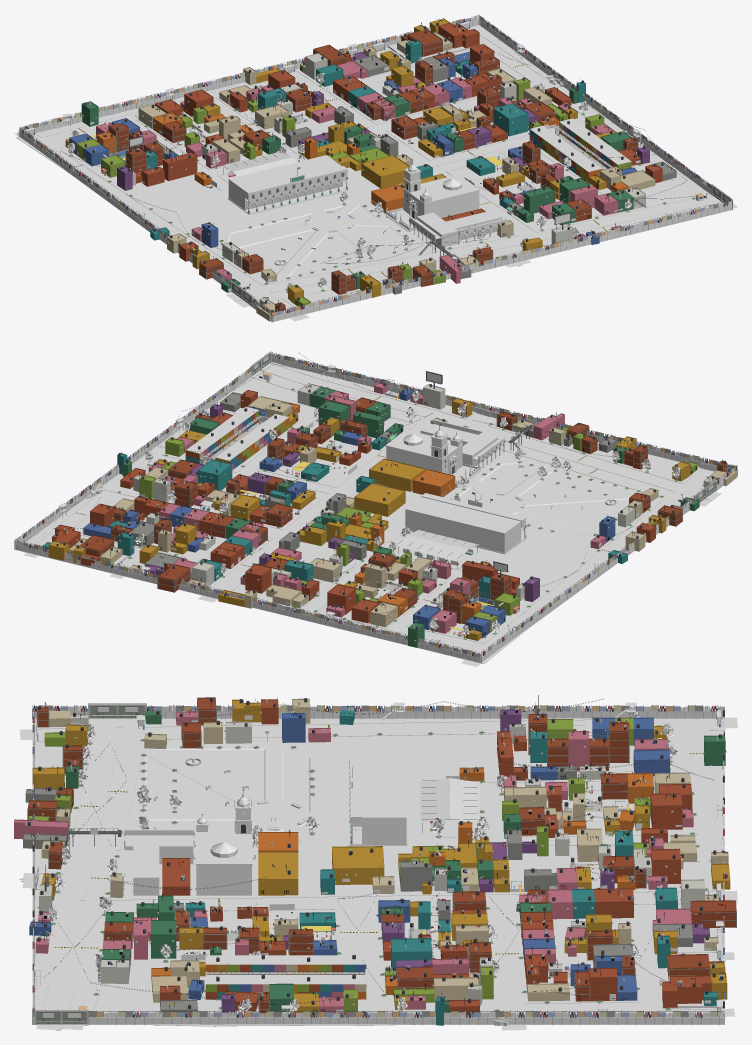
File: santa_mugre.glb
The picture shows the model from 3 angles, top to bottom: view 1: azimuth 30°, elevation 25°; view 2: azimuth 150°, elevation 25°; view 3: azimuth 270°, elevation 25°; orthographic projection. The views are drawn at different scales.
Visible parts, largest first — view 1: Piso, Calle_1_0, Barda_sur, Palacio, Vecindad, Calle_16_0, Barda_norte, Parroquia, Calle_18_0, Barda_oriente_a, Calle_3_0, Barda_poniente_a (+28 smaller); view 2: Piso, Calle_3_0, Palacio, Barda_norte, Vecindad, Calle_16_0, Calle_1_0, Barda_sur, Calle_18_0, Parroquia, Barda_oriente_a, Barda_poniente_a (+30 smaller); view 3: Piso, Barda_oriente_a, Calle_1_0, Calle_3_0, Vecindad, Calle_16_0, Barda_poniente_a, Palacio, Calle_18_0, Parroquia, Calle_17_0, Mercado (+83 smaller).
Part boxes in pixels (x1,y1,x2,y2): Piso: (38,25,730,321); Calle_1_0: (226,195,722,301); Barda_sur: (271,199,732,321); Palacio: (228,155,348,213); Vecindad: (529,118,631,182); Calle_16_0: (14,132,309,321); Barda_norte: (18,15,479,136); Parroquia: (403,159,479,219); Calle_18_0: (289,69,545,239); Barda_oriente_a: (479,15,711,194); Calle_3_0: (235,201,737,307); Barda_poniente_a: (20,127,230,285); Piso: (16,365,723,658); Calle_3_0: (260,362,721,499); Palacio: (405,492,526,552); Barda_norte: (14,539,481,663); Vecindad: (185,406,289,469); Calle_16_0: (461,468,714,666); Calle_1_0: (251,368,713,506); Barda_sur: (271,352,737,475); Calle_18_0: (198,408,453,602); Parroquia: (385,424,463,474); Barda_oriente_a: (14,367,251,549); Barda_poniente_a: (479,496,694,663); Piso: (32,718,724,1024); Barda_oriente_a: (88,1010,724,1024); Calle_1_0: (55,718,149,1030); Calle_3_0: (36,718,122,1029); Vecindad: (205,954,366,999); Calle_16_0: (19,717,737,741); Barda_poniente_a: (147,705,724,718); Palacio: (349,750,406,844); Calle_18_0: (56,889,737,912); Parroquia: (195,789,252,895); Calle_17_0: (486,892,528,1030); Mercado: (420,778,479,832).
Size of what is drawn, in the model's own units: 243 by 27.48 by 234.
